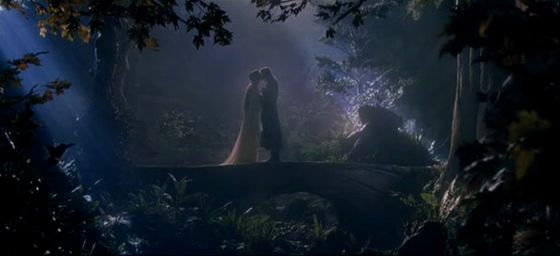els: (1, 1, 560, 256)
face_es: (261, 72, 268, 82), (255, 76, 261, 85)
person: (217, 68, 262, 165), (259, 66, 283, 163)
